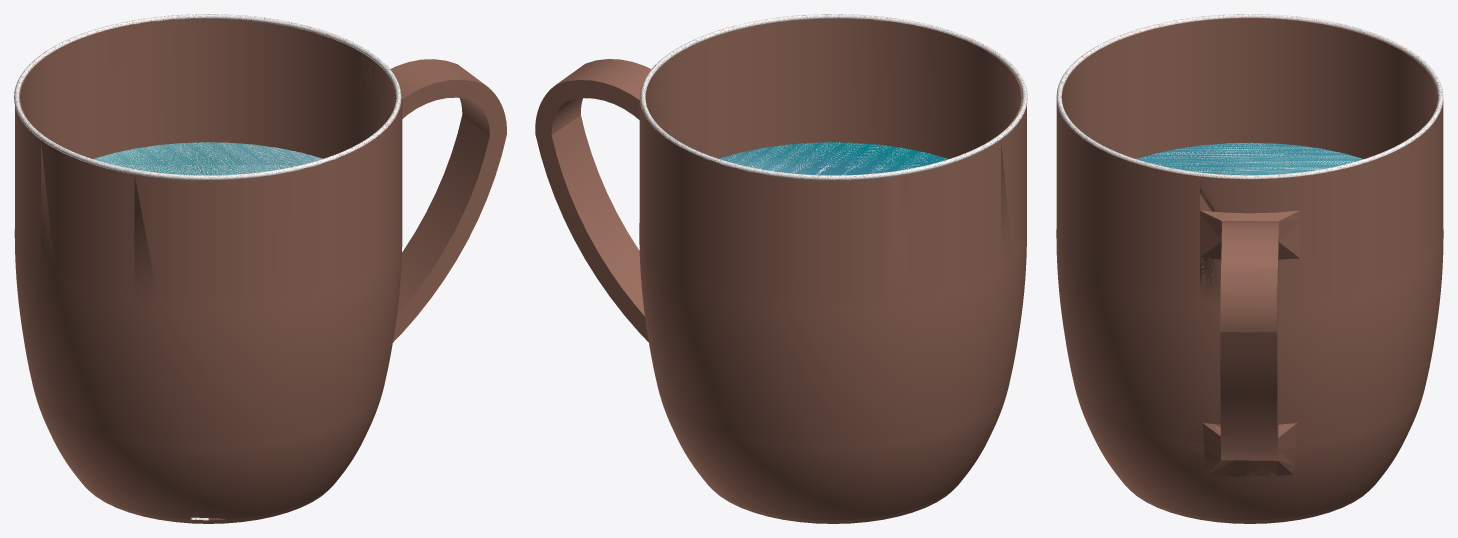
The picture shows the model from 3 angles, left to right: view 1: azimuth 30°, elevation 25°; view 2: azimuth 150°, elevation 25°; view 3: azimuth 270°, elevation 25°; orthographic projection.
Parts seen in each view (by area): view 1: group_0_ID4.023_Color_B14, group_0.005_ID38.011_Water_Pool_Light, group_0.002_ID20.016_Color_000.008, group_0.005_ID38.011_material.115, group_0.002_ID20.016_Color_B14; view 2: group_0_ID4.023_Color_B14, group_0.005_ID38.011_Water_Pool_Light, group_0.002_ID20.016_Color_000.008, group_0.002_ID20.016_Color_B14, group_0.005_ID38.011_material.115; view 3: group_0_ID4.023_Color_B14, group_0.005_ID38.011_Water_Pool_Light, group_0.002_ID20.016_Color_000.008, group_0.005_ID38.011_material.115, group_0.002_ID20.016_Color_B14.
Part boxes in pixels (x1,y1,x2,y2): group_0_ID4.023_Color_B14: [14, 18, 506, 523]; group_0.005_ID38.011_Water_Pool_Light: [93, 142, 322, 175]; group_0.002_ID20.016_Color_000.008: [14, 14, 401, 180]; group_0.005_ID38.011_material.115: [98, 142, 318, 175]; group_0.002_ID20.016_Color_B14: [14, 14, 400, 180]; group_0_ID4.023_Color_B14: [535, 18, 1026, 523]; group_0.005_ID38.011_Water_Pool_Light: [718, 142, 948, 175]; group_0.002_ID20.016_Color_000.008: [640, 14, 1027, 180]; group_0.002_ID20.016_Color_B14: [640, 14, 1027, 180]; group_0.005_ID38.011_material.115: [728, 142, 945, 175]; group_0_ID4.023_Color_B14: [1056, 17, 1443, 523]; group_0.005_ID38.011_Water_Pool_Light: [1136, 142, 1363, 175]; group_0.002_ID20.016_Color_000.008: [1056, 14, 1443, 178]; group_0.005_ID38.011_material.115: [1137, 143, 1358, 174]; group_0.002_ID20.016_Color_B14: [1057, 14, 1442, 178].
Size of the model in its own units: 0.1949 by 0.1538 by 0.1444.
Materials: 4 (1 with a texture image).
